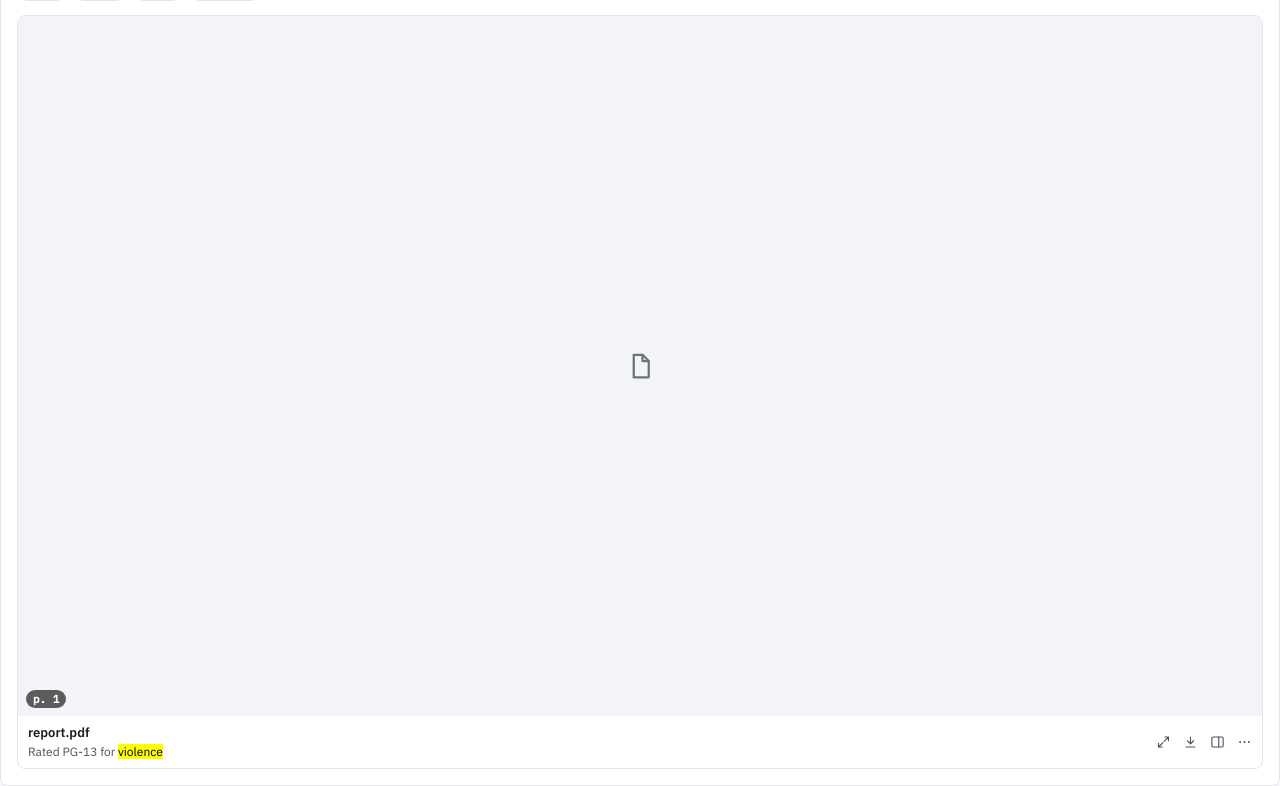
Test: document (PDF page) moments › show an open refusal in the card
The image size is (1280, 786).
(page scrolled)
Click the button named "Open report.pdf in the side panel" at (1218, 742), box [1204,728,1231,755]
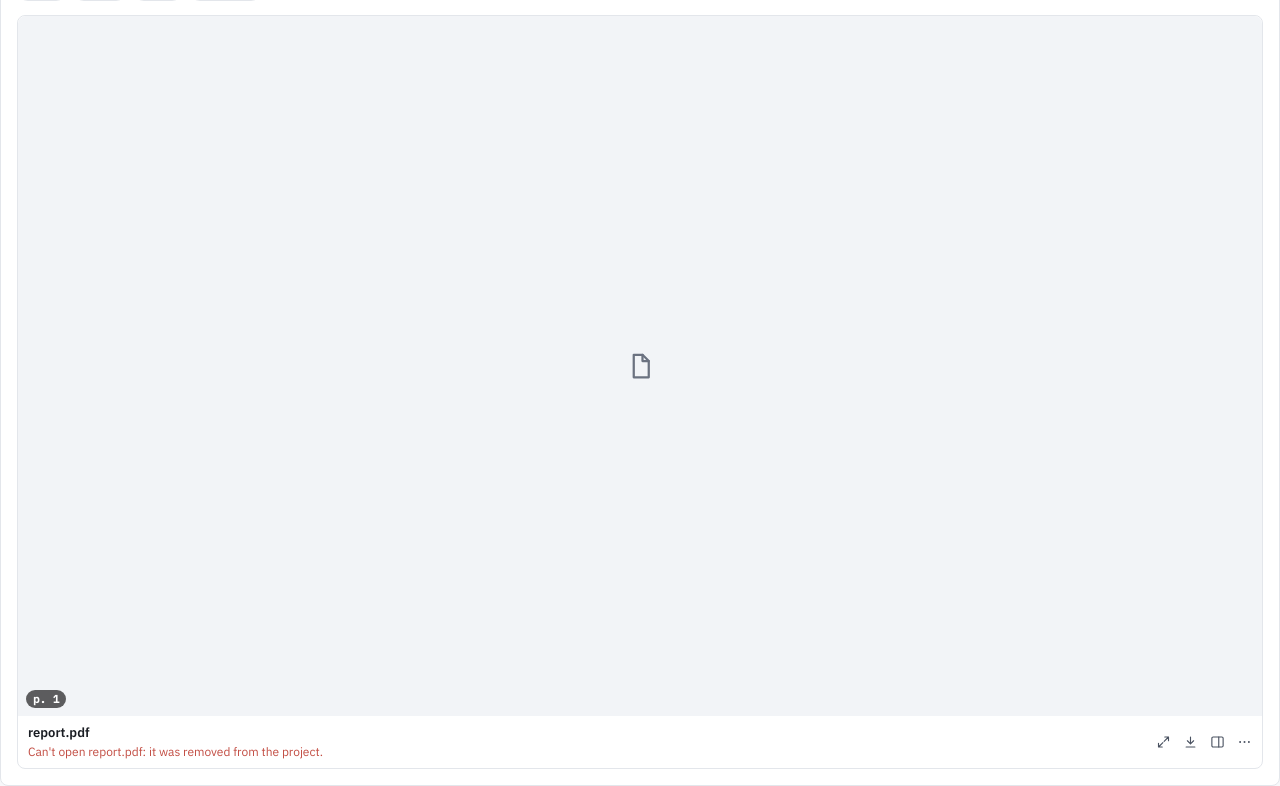
Expected: the message with test id "moment-refusal-d1" shows "removed from the project", [28,744,323,759]
